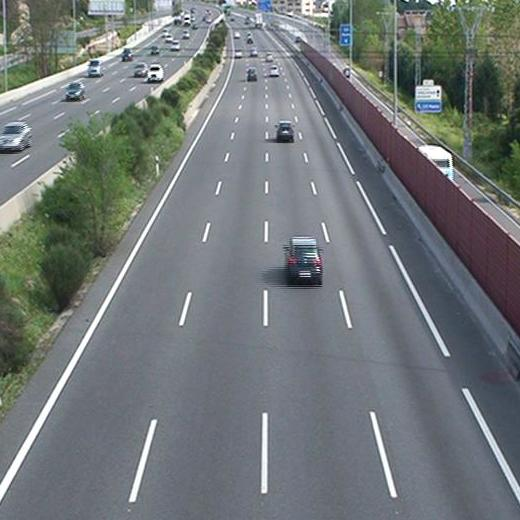car: (282, 235, 324, 284), (275, 121, 296, 142), (245, 66, 258, 82), (268, 63, 280, 77)
